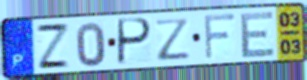0: (74, 19, 108, 68)
E: (239, 9, 278, 60)
F: (202, 11, 238, 61)
P: (115, 17, 154, 67)
Z: (34, 22, 72, 70), (153, 17, 191, 63)
